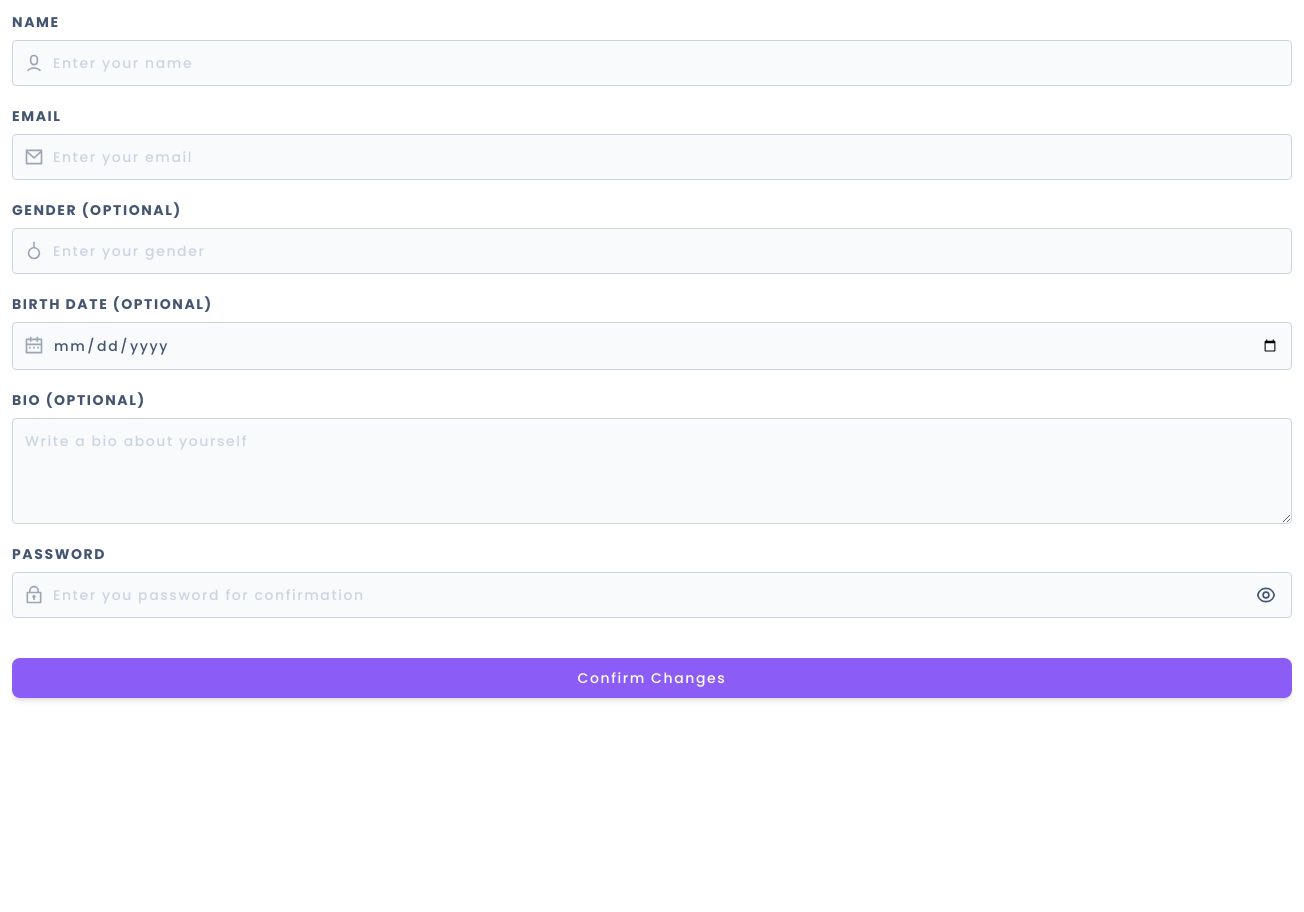
Test case: ProfileUpdateForm › should display error messages for invalid inputs
This screenshot has width=1304, height=912.
Click the button "Confirm Changes".
click(652, 678)  # box [12, 658, 1292, 698]
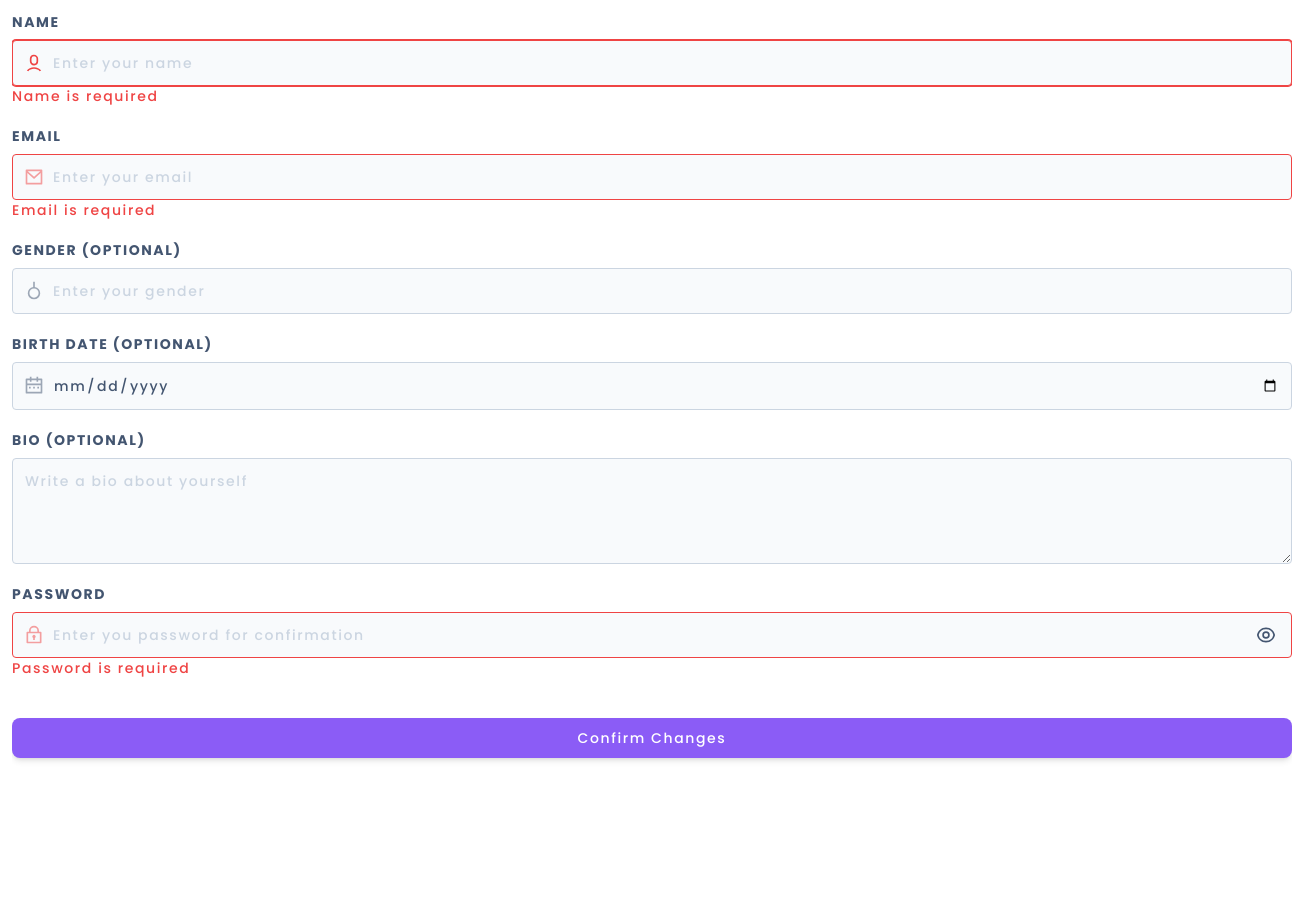
Expected: the text "Name is required" is shown, [12, 86, 159, 106]
Expected: the text "Email is required" is shown, [12, 200, 156, 220]
Expected: the text "Password is required" is shown, [12, 658, 190, 678]
Type "ab" into the field labelled "Name".
click(652, 63); type("ab")  # box [12, 40, 1292, 86]
Leave the field labelled "Name", box [12, 40, 1292, 86]
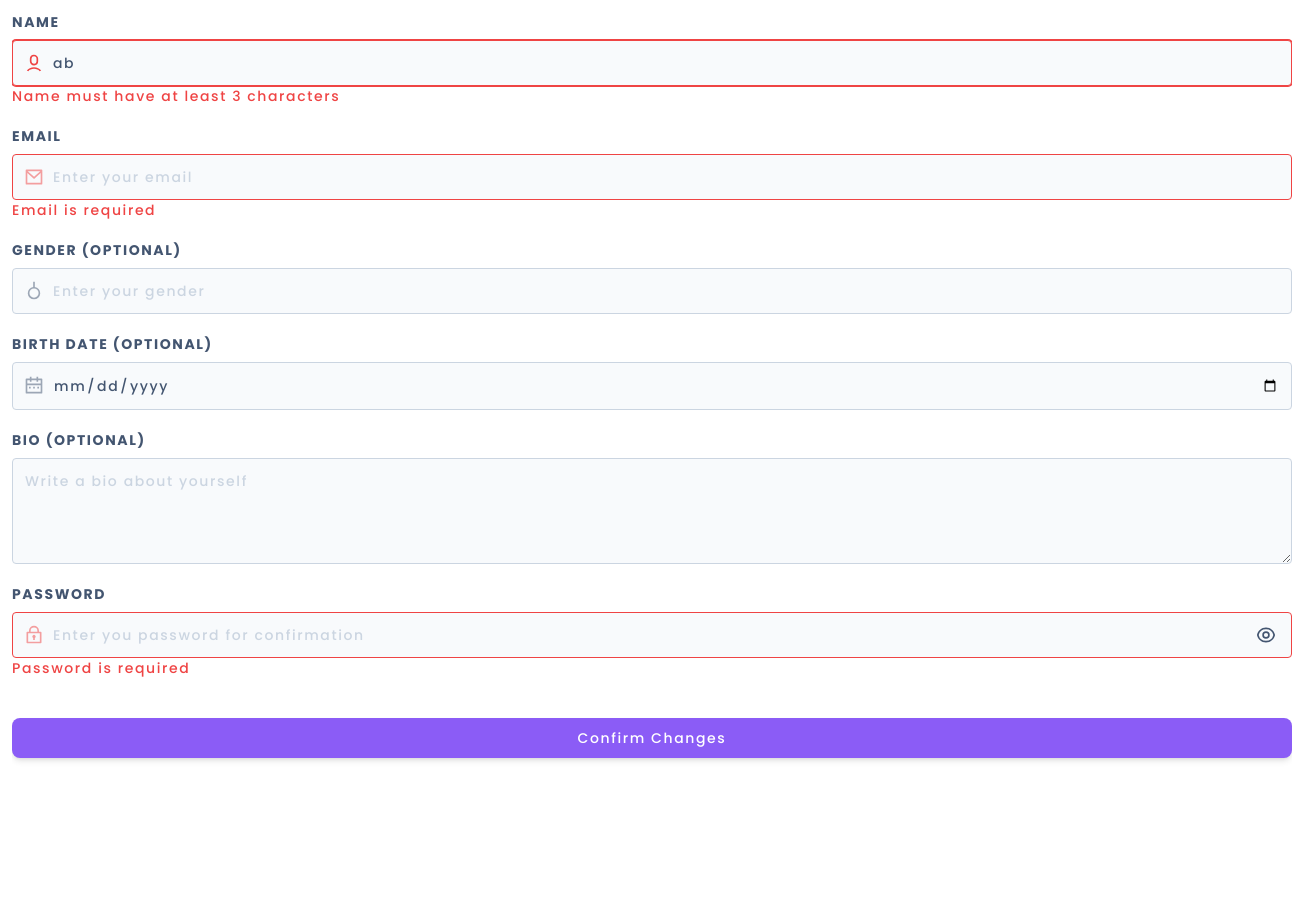
Expected: the text "Name must have at least 3 characters" is shown, [12, 86, 340, 106]
Type "invalid" into the field labelled "Email".
click(652, 177); type("invalid")  # box [12, 154, 1292, 200]
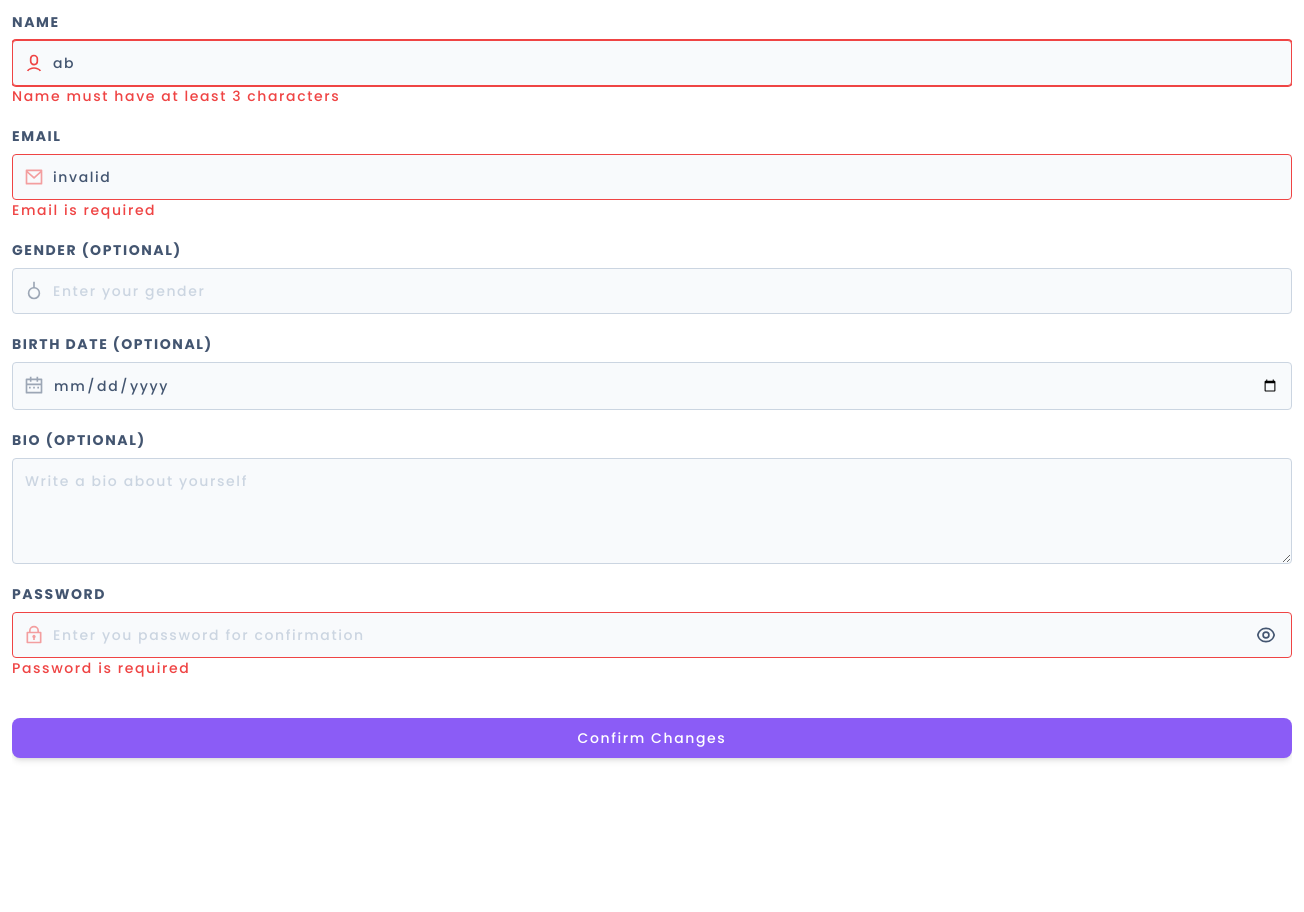
Leave the field labelled "Email", box [12, 154, 1292, 200]
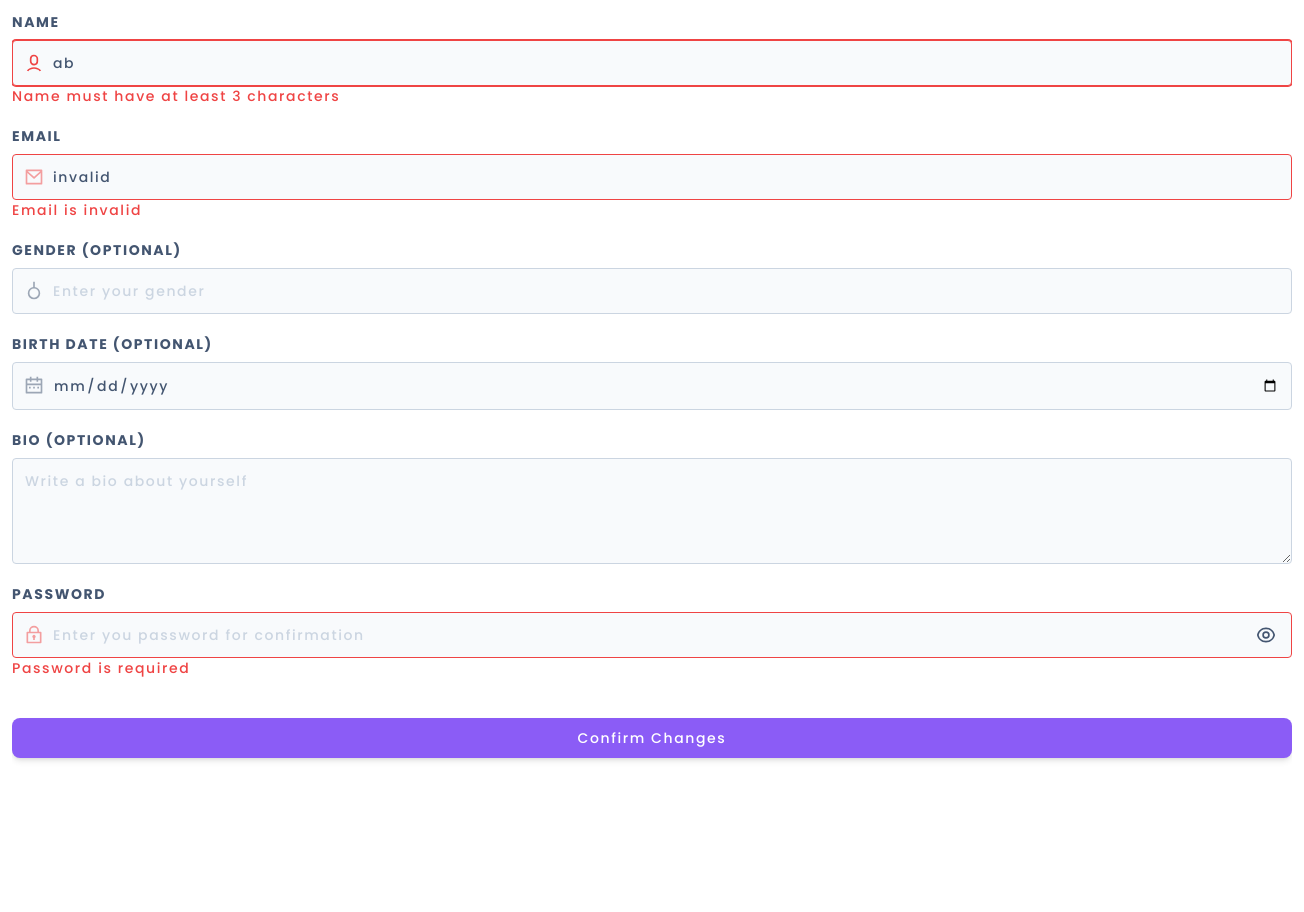
Expected: the text "Email is invalid" is shown, [12, 200, 142, 220]
Type "weak" into the password field labelled "Password".
click(652, 635); type("weak")  # box [12, 612, 1292, 658]
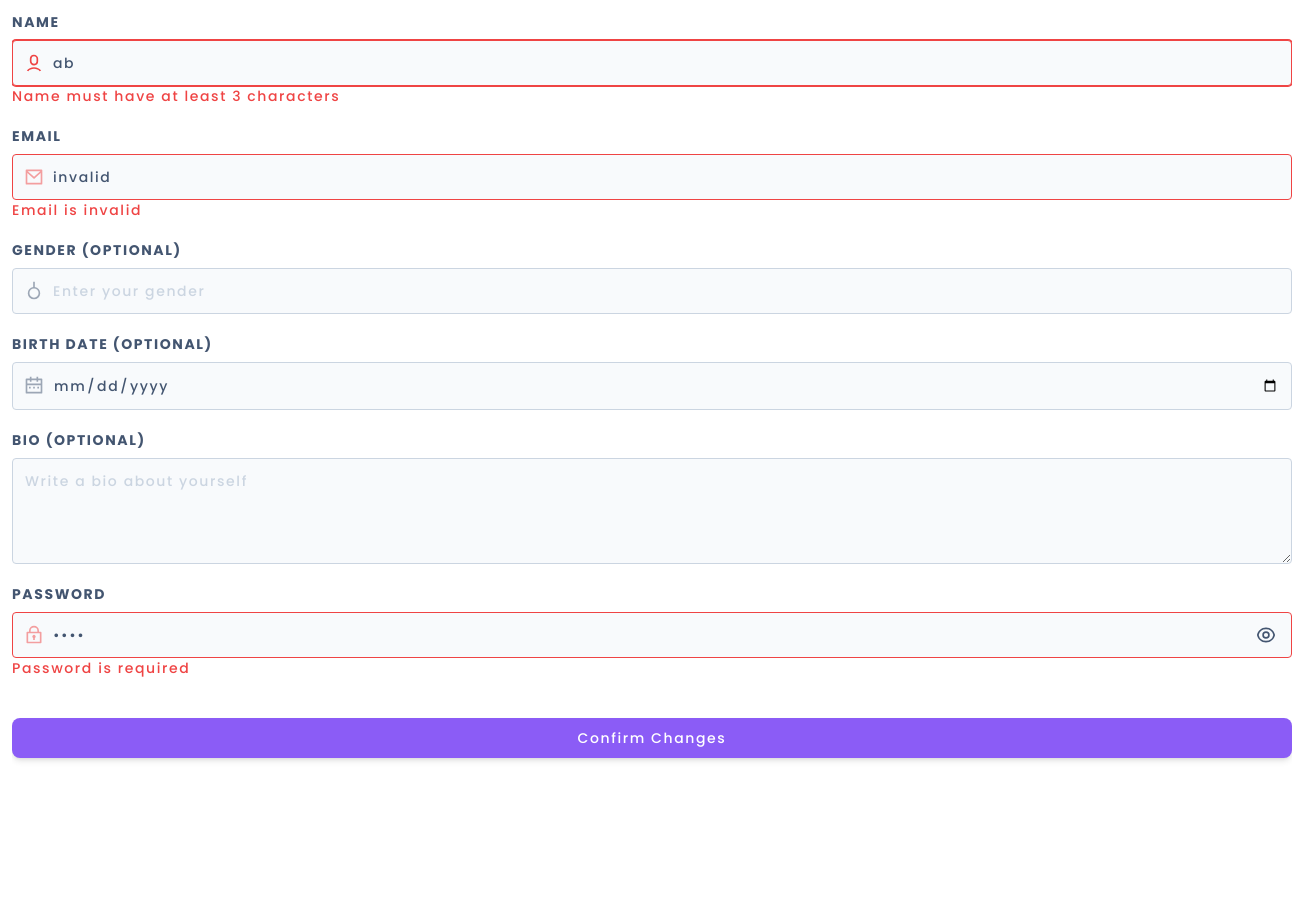
Leave the password field labelled "Password", box [12, 612, 1292, 658]
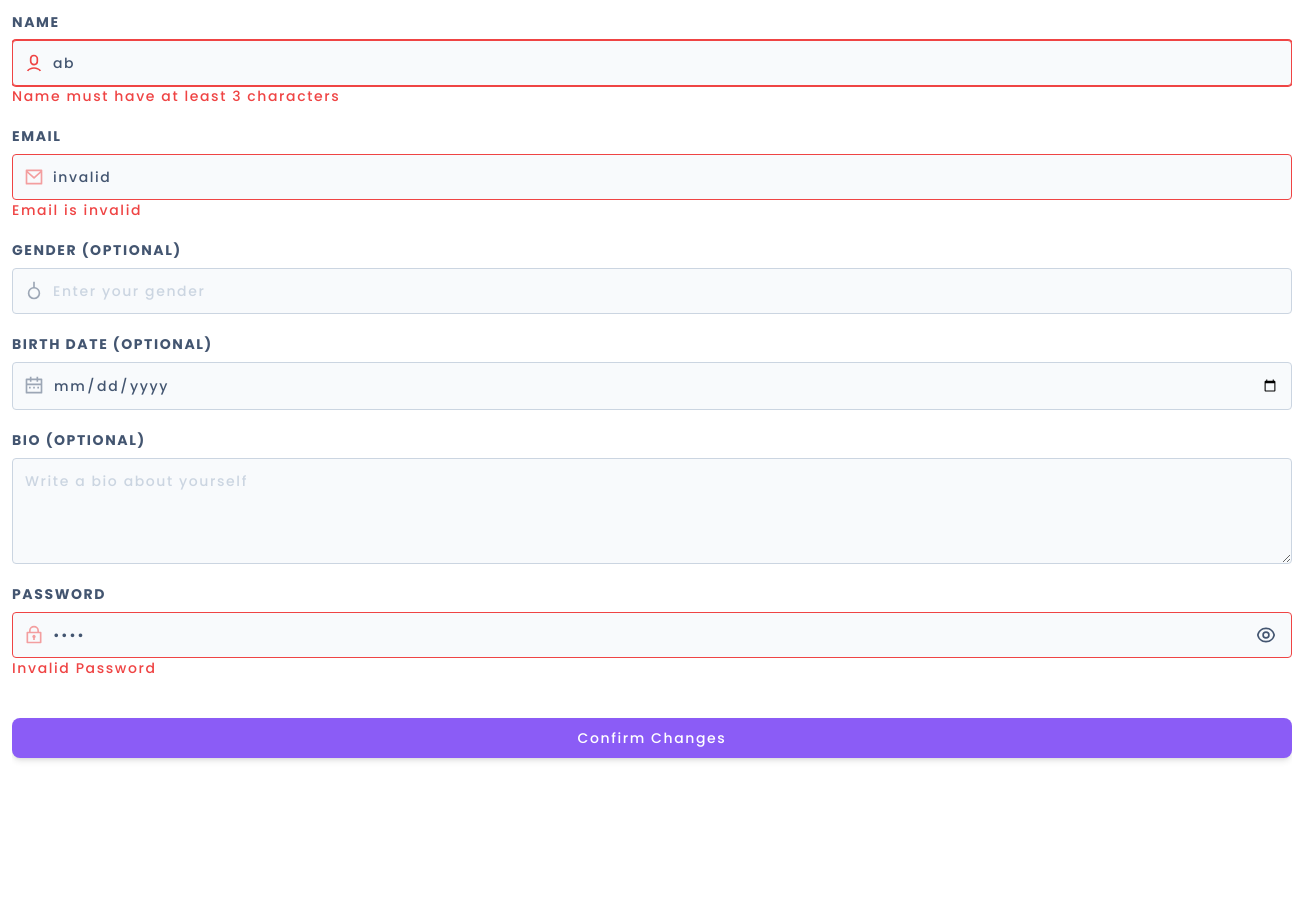
Expected: the text "Invalid Password" is shown, [12, 658, 157, 678]
